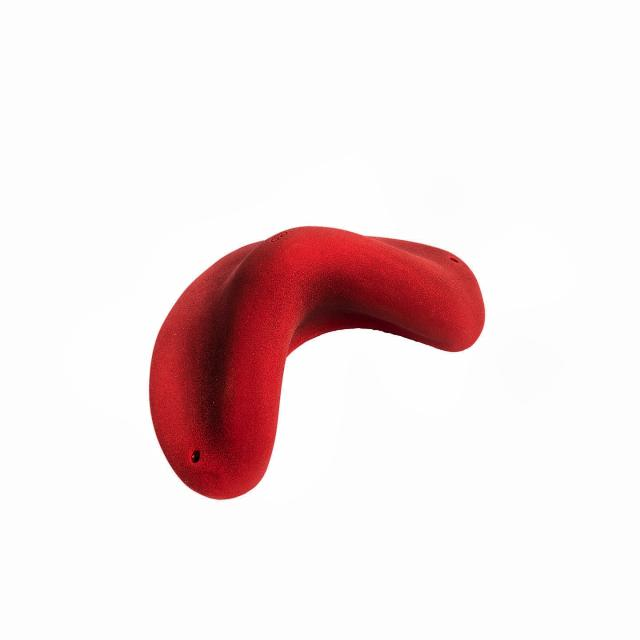Hold: (148, 223, 489, 504)
